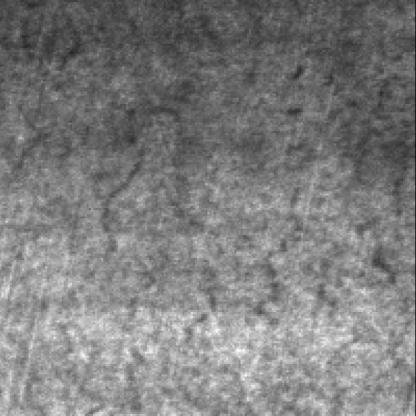crazing: (254, 89, 414, 416), (79, 106, 229, 416)
